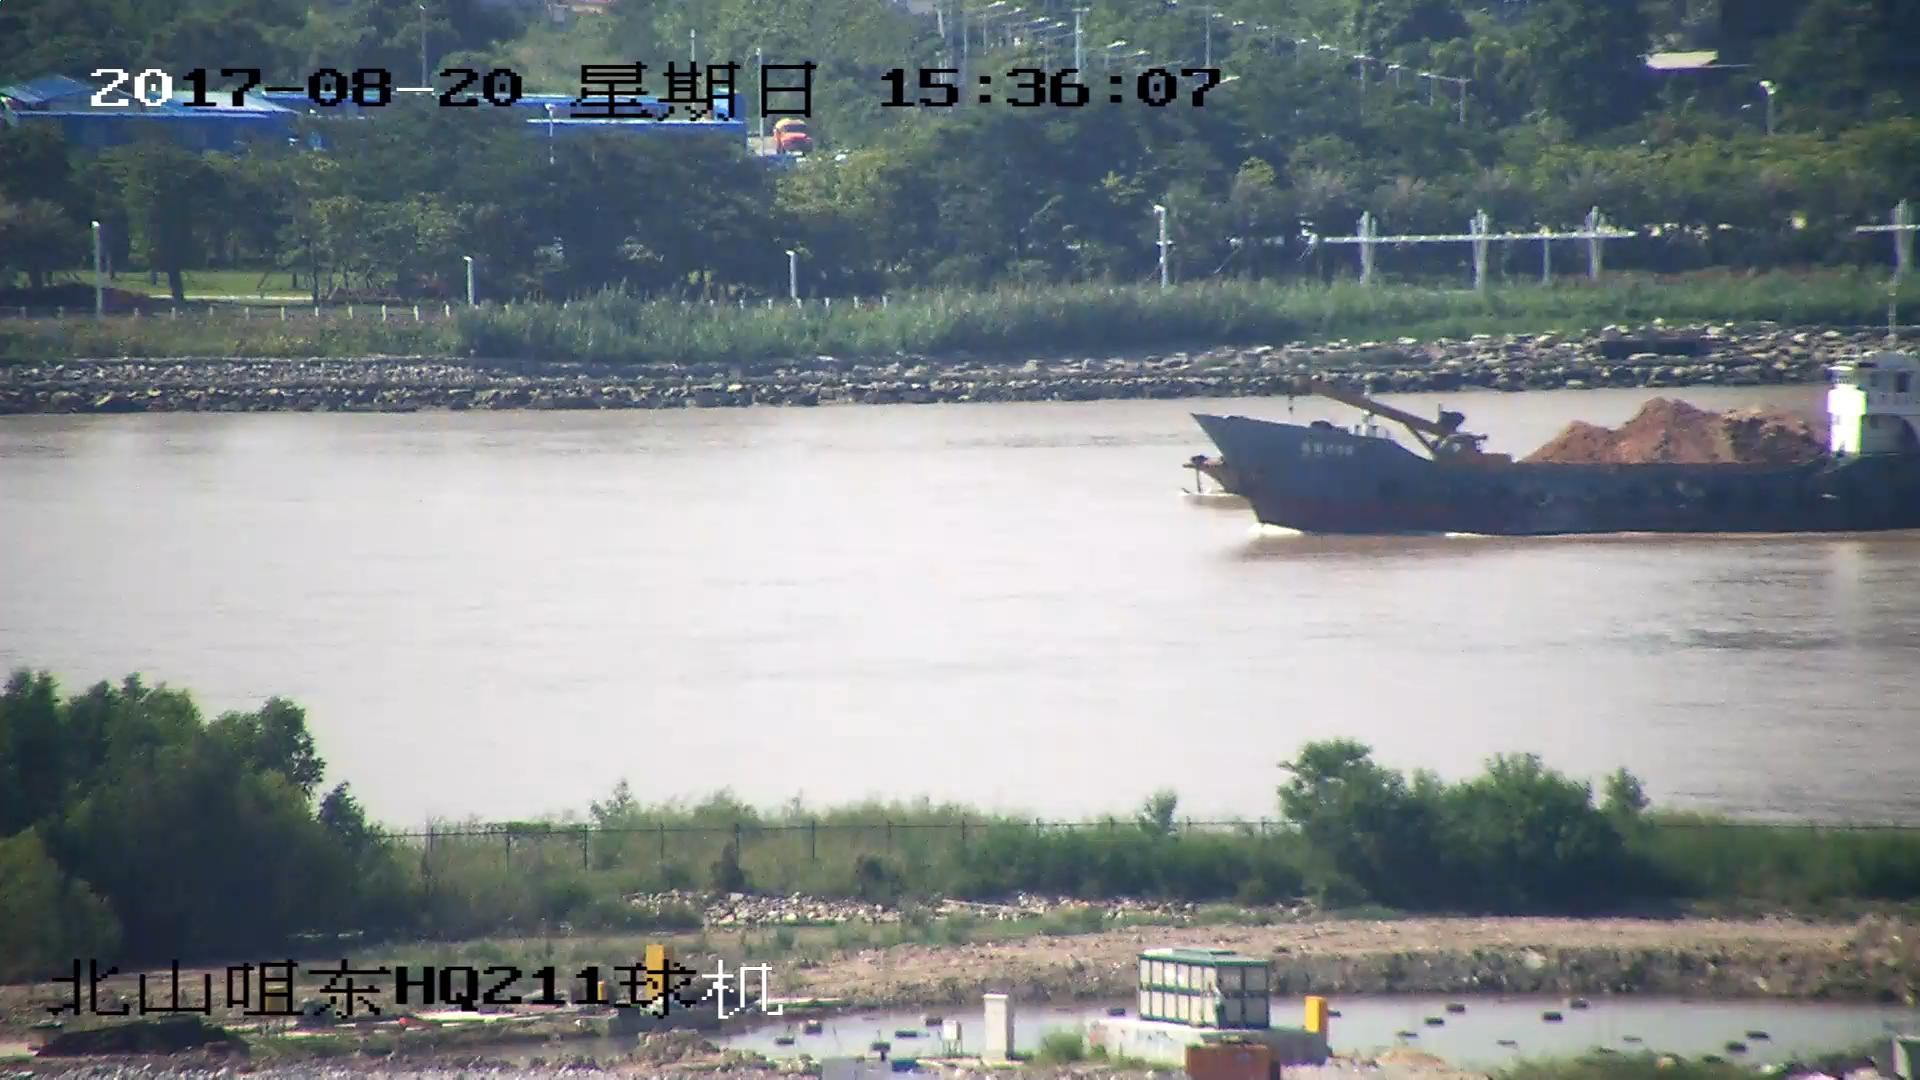general cargo ship: (1199, 350, 1920, 534)
ore carrier: (1174, 391, 1920, 510)
